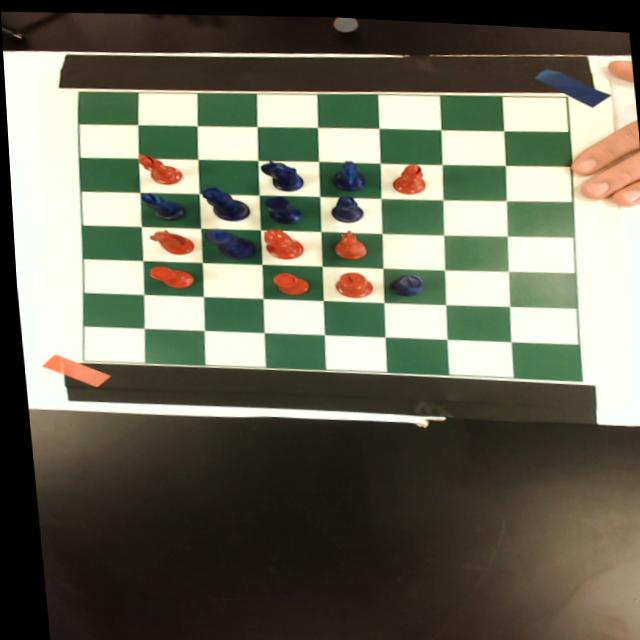B: (134, 189, 184, 221), (324, 189, 363, 221)
K: (200, 223, 256, 259)
N: (256, 153, 303, 191), (325, 154, 366, 190)
Q: (197, 182, 248, 222)
R: (258, 190, 300, 223), (382, 266, 420, 294)
b: (131, 150, 181, 185), (385, 156, 424, 191)
k: (328, 267, 370, 296)
n: (142, 225, 193, 255), (325, 224, 366, 258)
q: (258, 223, 302, 258)
r: (143, 262, 193, 289), (267, 268, 305, 294)
